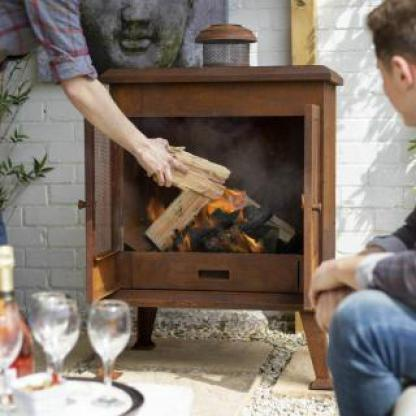fire: (148, 178, 271, 256)
